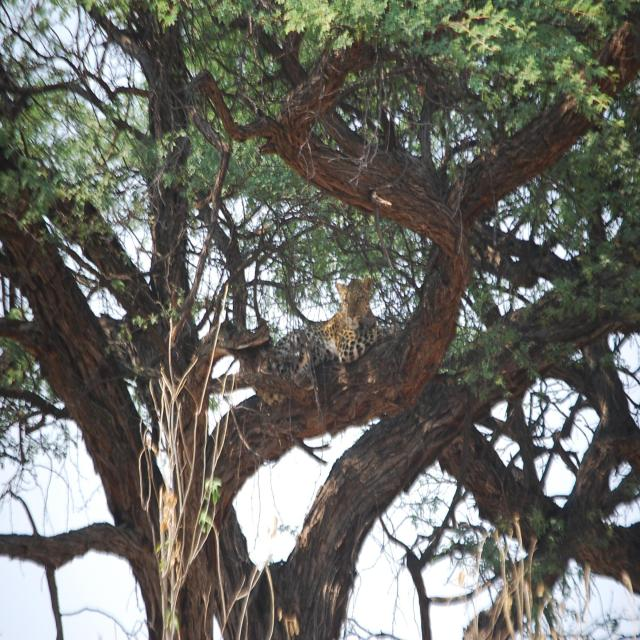Leopard: (264, 275, 389, 392)
